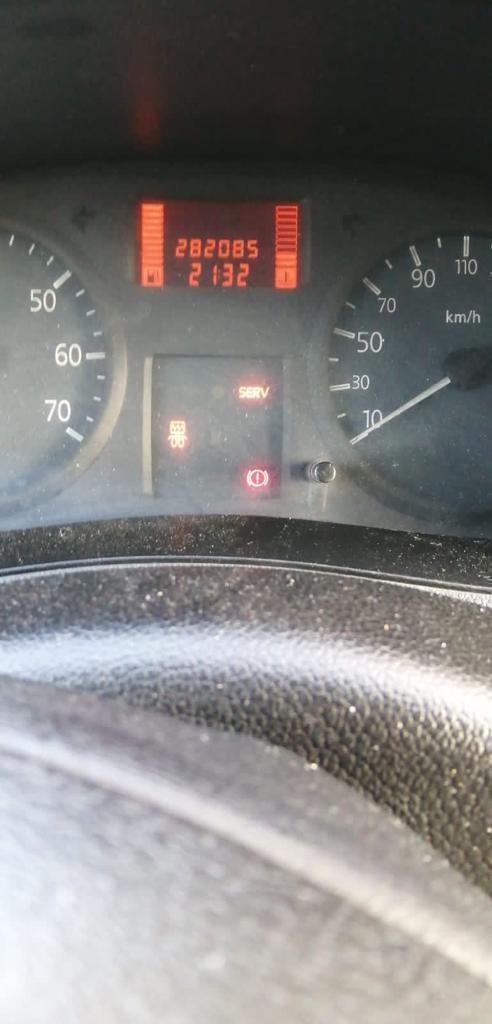0: (217, 239, 230, 257)
1: (210, 262, 217, 287)
2: (186, 261, 202, 287), (236, 262, 249, 287), (174, 238, 187, 257), (203, 238, 215, 257)
3: (221, 262, 233, 287)
5: (246, 238, 259, 258)
8: (231, 239, 244, 257), (189, 238, 201, 256)
X: (218, 268, 220, 282)
odometer: (132, 192, 315, 293)
